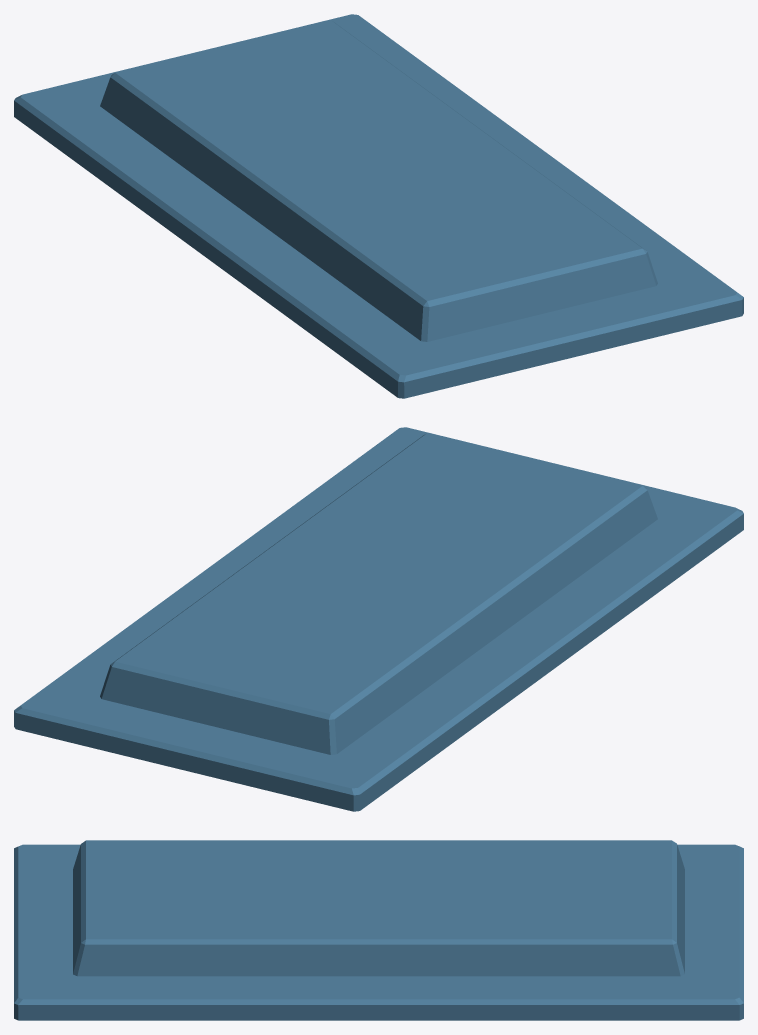
Rendered from Cave_02.fbx.
3 views of the same model, one above another, from view 1: azimuth 30°, elevation 25°; view 2: azimuth 150°, elevation 25°; view 3: azimuth 270°, elevation 25° (orthographic). The views are drawn at different scales.
Visible parts, largest first — view 1: Cave_02; view 2: Cave_02; view 3: Cave_02.
Part boxes in pixels (x1,y1,x2,y2): Cave_02: [14, 14, 743, 398]; Cave_02: [14, 427, 743, 811]; Cave_02: [14, 840, 743, 1020].
Size of the model in its own units: 1.01 by 0.1529 by 1.97.
